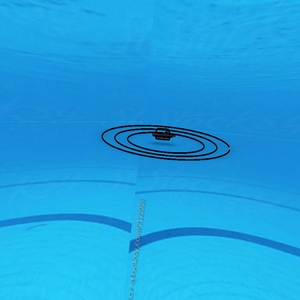circle: (100, 124, 230, 160)
submarine: (151, 125, 174, 143)
